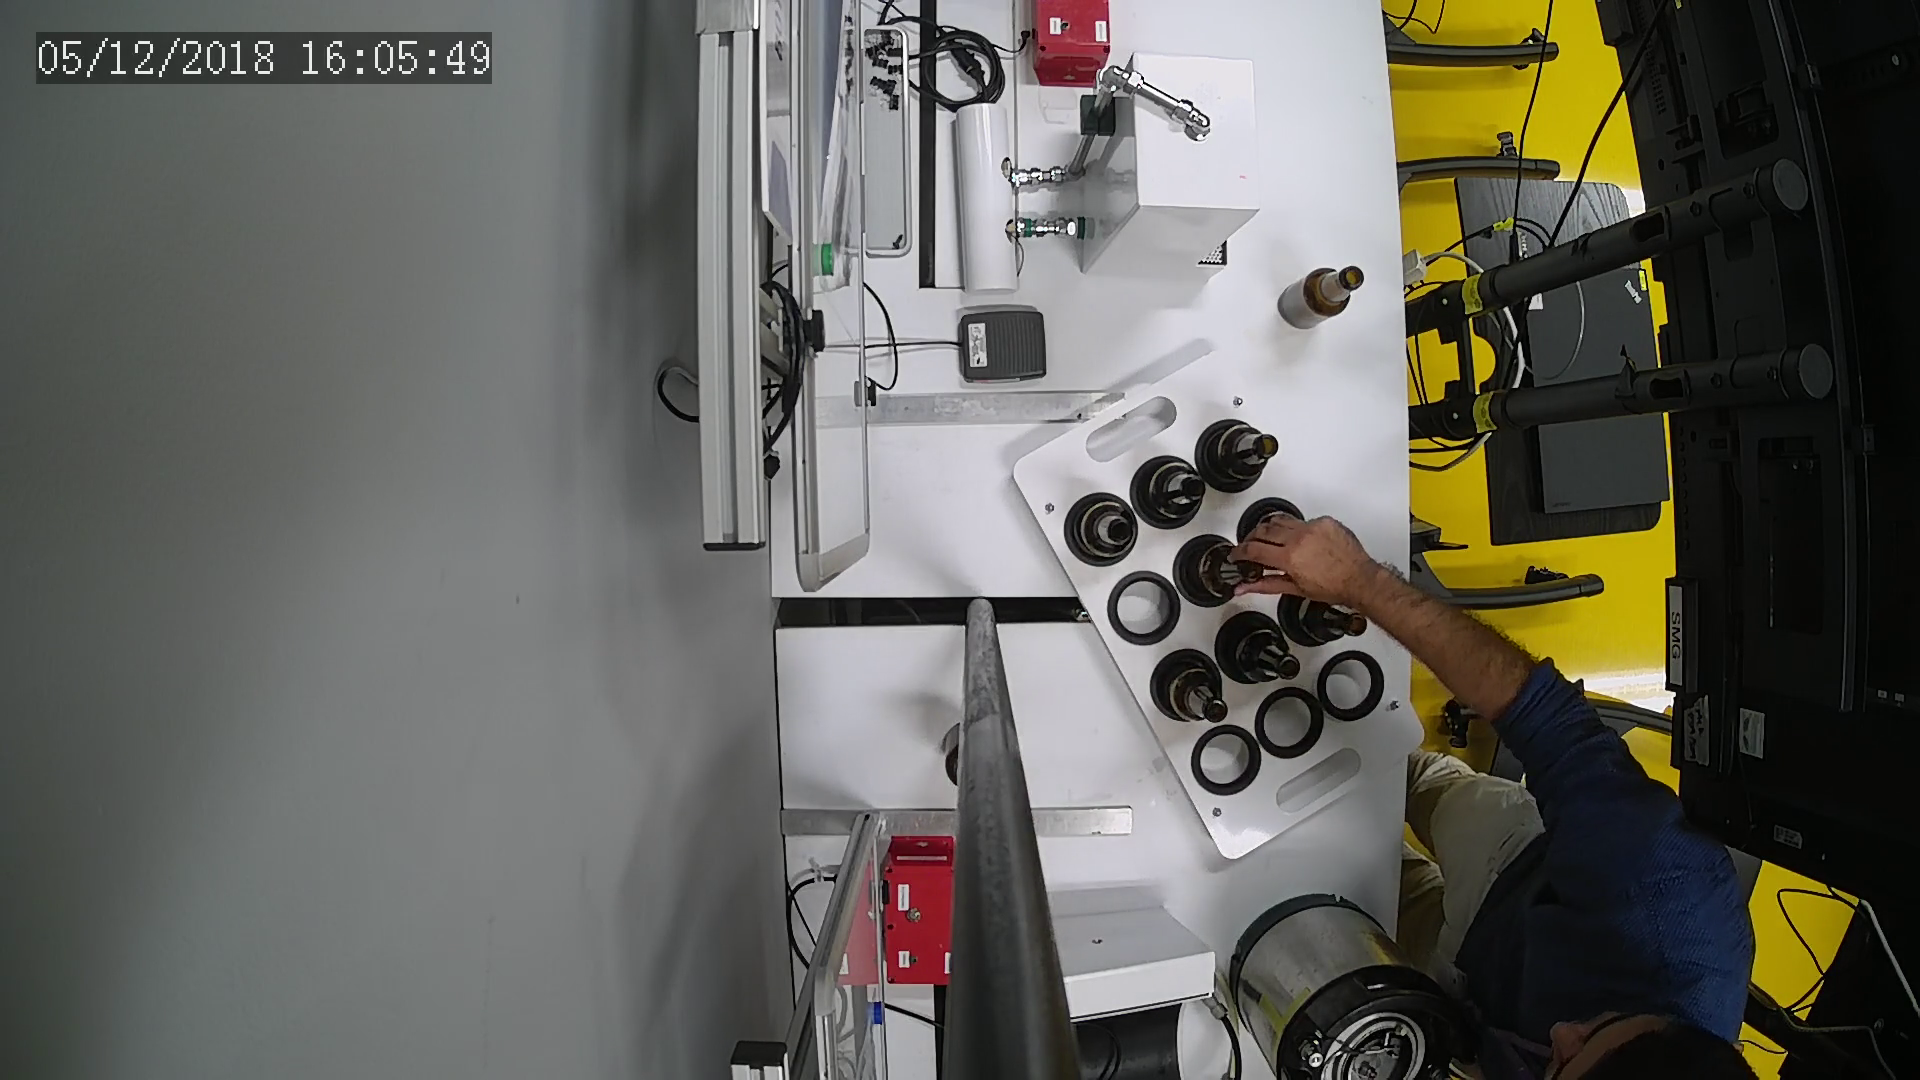filled_bottle: (1153, 645, 1233, 728), (1220, 613, 1304, 691), (1127, 455, 1211, 530), (1176, 541, 1270, 607), (1065, 491, 1143, 566), (1199, 418, 1279, 491), (1279, 597, 1370, 653)
trolley: (1011, 351, 1428, 858)
unfilled_bottle: (1274, 265, 1367, 332)
